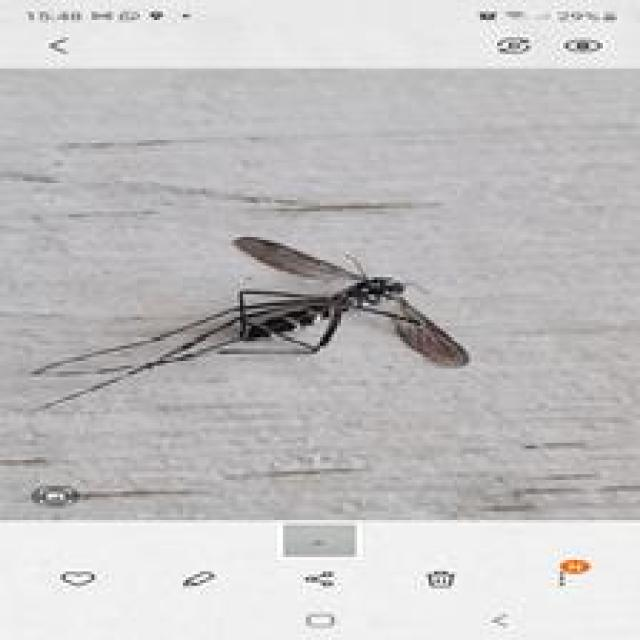Aedes albopictus: (29, 233, 472, 413)
